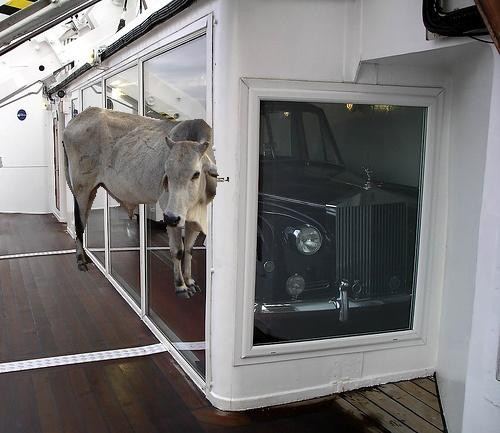tampered: (63, 107, 229, 298)
